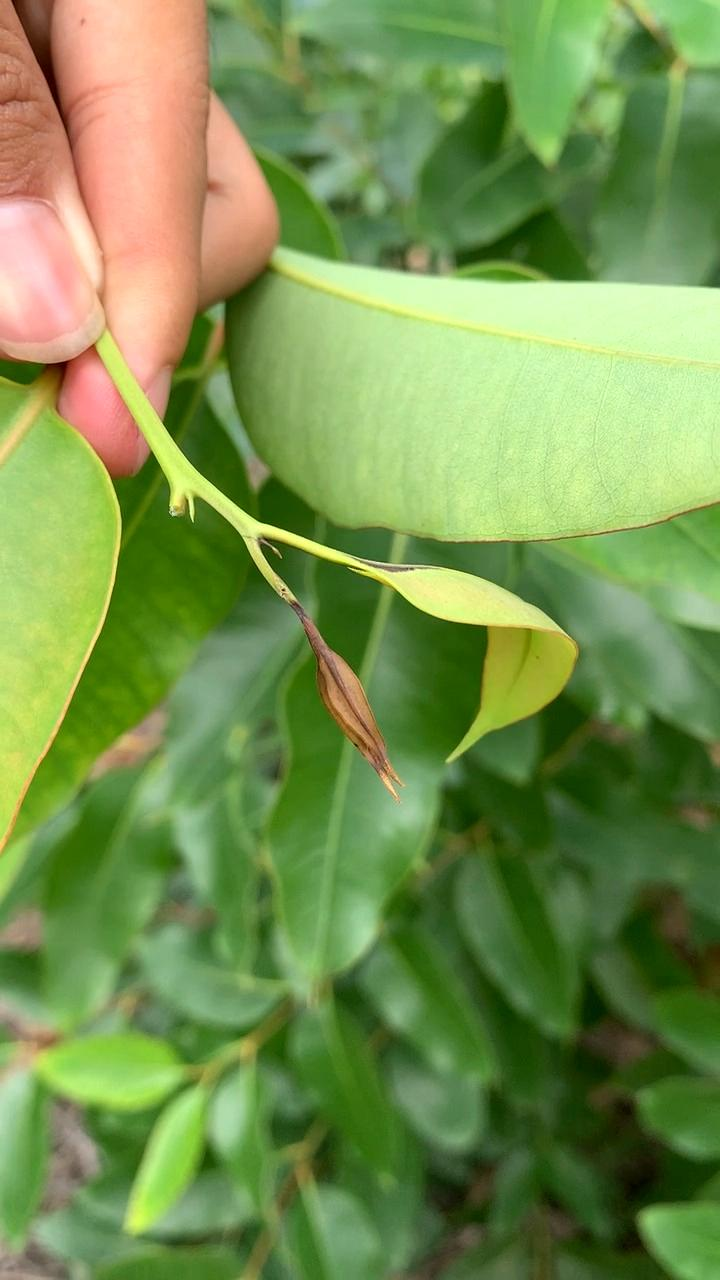Helopeltis-Withered Sprout: (236, 568, 425, 821)
